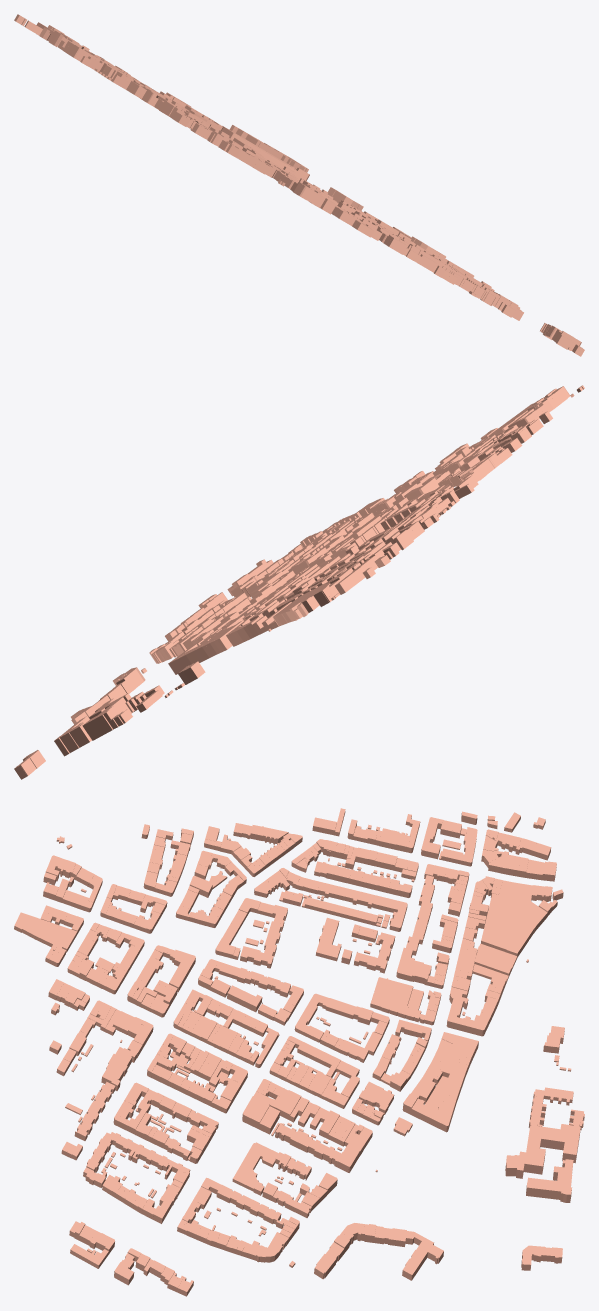
3 renders of one model, top to bottom at view 1: azimuth 30°, elevation 25°; view 2: azimuth 150°, elevation 25°; view 3: azimuth 270°, elevation 25°, orthographic. The views are drawn at different scales.
Bounding box in the file's own units: 521 × 395 × 666.
